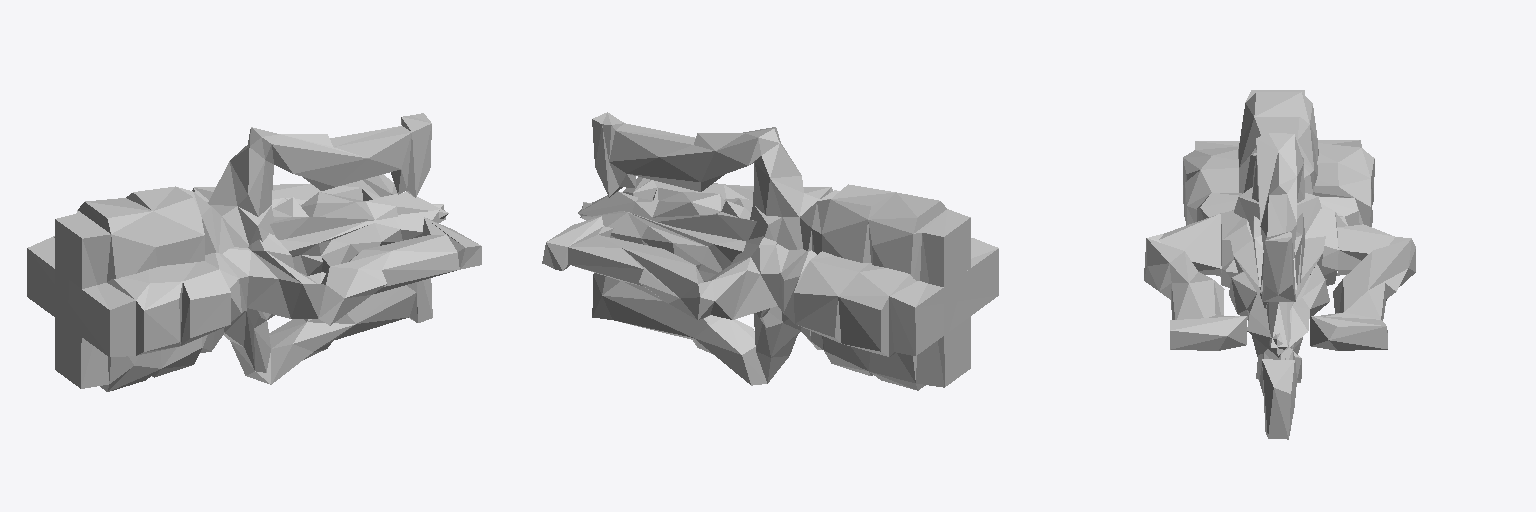
3 renders of one model, left to right at view 1: azimuth 30°, elevation 25°; view 2: azimuth 150°, elevation 25°; view 3: azimuth 270°, elevation 25°, orthographic.
Visible parts, largest first — view 1: unknown; view 2: unknown; view 3: unknown.
Part boxes in pixels (x1,y1,x2,y2): unknown: (27,113,481,391); unknown: (542,112,998,390); unknown: (1144,90,1415,439).
Bounding box in the file's own units: 0.4934 × 0.308 × 0.308.